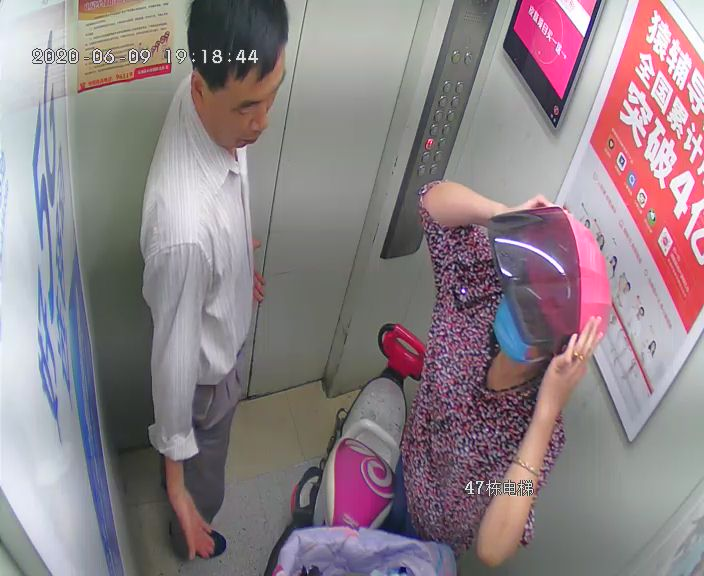Electric-bicycle: (294, 323, 419, 527)
